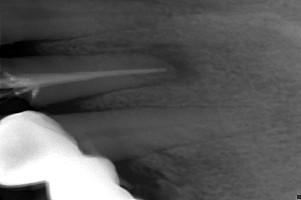Furcation Involvement: (142, 43, 199, 88)
